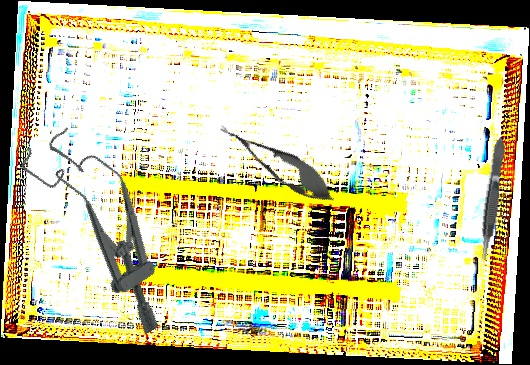Micro Scissor: (210, 112, 344, 214)
Speculum: (13, 113, 201, 345)
Tissue Forceps: (475, 136, 510, 265)
